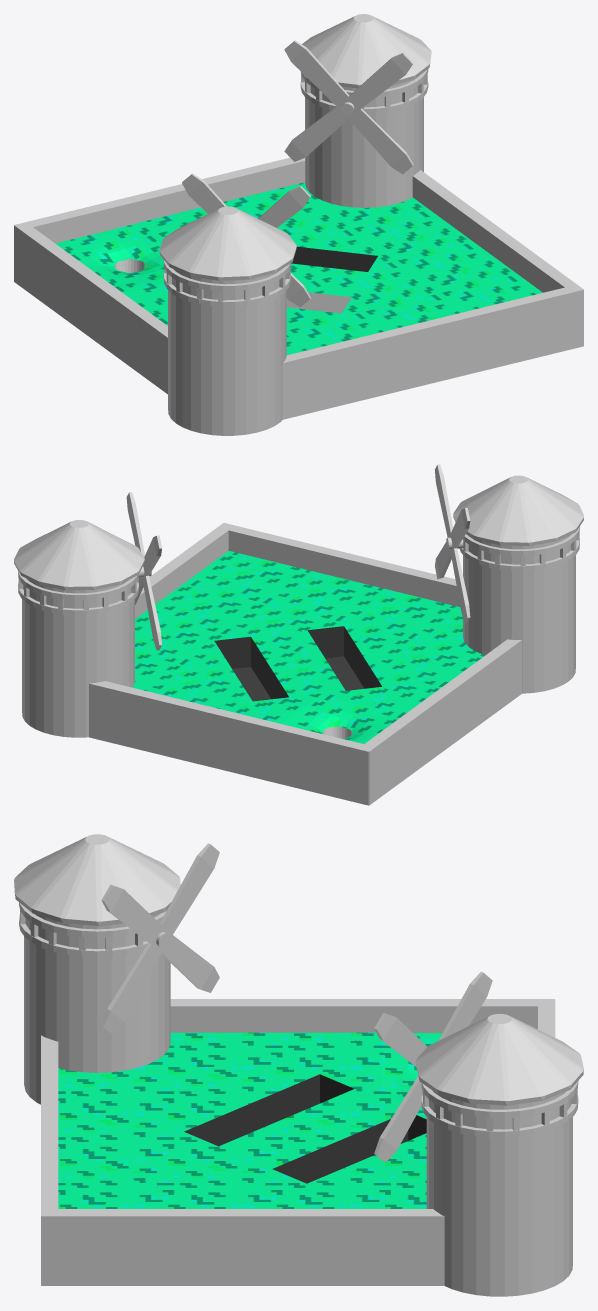
The model's file is NN3fixed.fbx.
The picture shows the model from 3 angles, top to bottom: view 1: azimuth 30°, elevation 25°; view 2: azimuth 150°, elevation 25°; view 3: azimuth 270°, elevation 25°; orthographic projection. The views are drawn at different scales.
Visible parts, largest first — view 1: Cube.003, Cube.002, Cube.014, Cube.034, Cube.001, Cube.025, Cube.029; view 2: Cube.002, Cube.003, Cube.034, Cube.014, Cube.001, Cube.026, Cube.025, Cube.029; view 3: Cube.002, Cube.003, Cube.034, Cube.014, Cube.001, Cube.028, Cube.029, Cube.025, Cube.026.
Part boxes in pixels (left/top/right/bottom): Cube.003: left=14, top=157, right=583, bottom=419; Cube.002: left=55, top=182, right=542, bottom=355; Cube.014: left=159, top=206, right=296, bottom=435; Cube.034: left=300, top=14, right=431, bottom=207; Cube.001: left=284, top=40, right=413, bottom=174; Cube.025: left=258, top=186, right=310, bottom=227; Cube.029: left=182, top=173, right=226, bottom=213; Cube.002: left=132, top=550, right=484, bottom=743; Cube.003: left=89, top=523, right=521, bottom=805; Cube.034: left=14, top=520, right=144, bottom=737; Cube.014: left=453, top=475, right=583, bottom=693; Cube.001: left=126, top=492, right=161, bottom=650; Cube.026: left=451, top=546, right=470, bottom=622; Cube.025: left=434, top=464, right=453, bottom=537; Cube.029: left=451, top=508, right=470, bottom=548; Cube.002: left=58, top=1032, right=442, bottom=1208; Cube.003: left=41, top=999, right=555, bottom=1285; Cube.034: left=415, top=1013, right=583, bottom=1296; Cube.014: left=14, top=834, right=180, bottom=1104; Cube.001: left=374, top=971, right=492, bottom=1162; Cube.028: left=101, top=942, right=162, bottom=1033; Cube.029: left=160, top=843, right=219, bottom=935; Cube.025: left=101, top=884, right=162, bottom=943; Cube.026: left=162, top=935, right=219, bottom=992.
Size of the model in its own units: 617 by 284 by 592.
